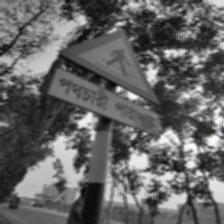Pedestrian-crossing: (44, 25, 162, 139)
